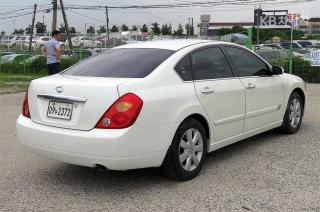0: (49, 106, 52, 114)
2: (58, 107, 62, 116), (67, 108, 71, 117)
3: (61, 107, 64, 117)
7: (64, 107, 68, 117)
9: (52, 106, 55, 116)
plate: (43, 98, 77, 123)
누: (54, 107, 58, 115)
